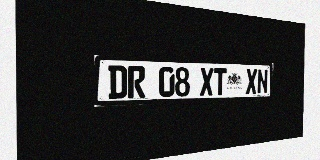0: (159, 66, 174, 97)
8: (175, 67, 190, 97)
D: (108, 65, 127, 99)
N: (257, 69, 268, 94)
R: (128, 66, 145, 98)
T: (214, 68, 227, 95)
X: (200, 67, 213, 96), (246, 69, 257, 94)
